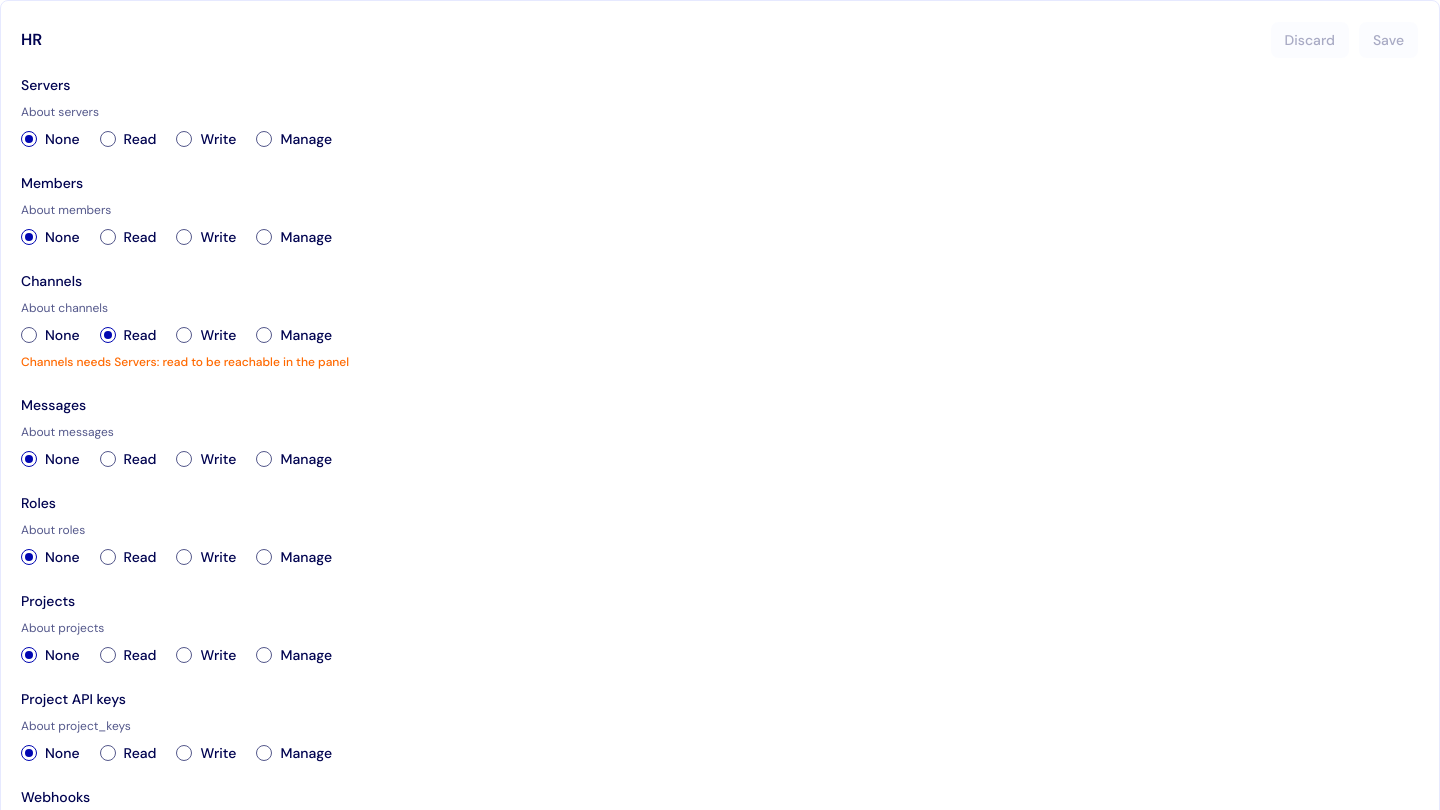
RoleEditor › warns about a grant that cannot be reached in the panel
Expected: the text "Channels needs Servers: read to be reachable in the panel" is shown, [21,354,349,370]
Click the 2nd radio button named "Read".
click(108, 139)  # box [100,131,116,147]
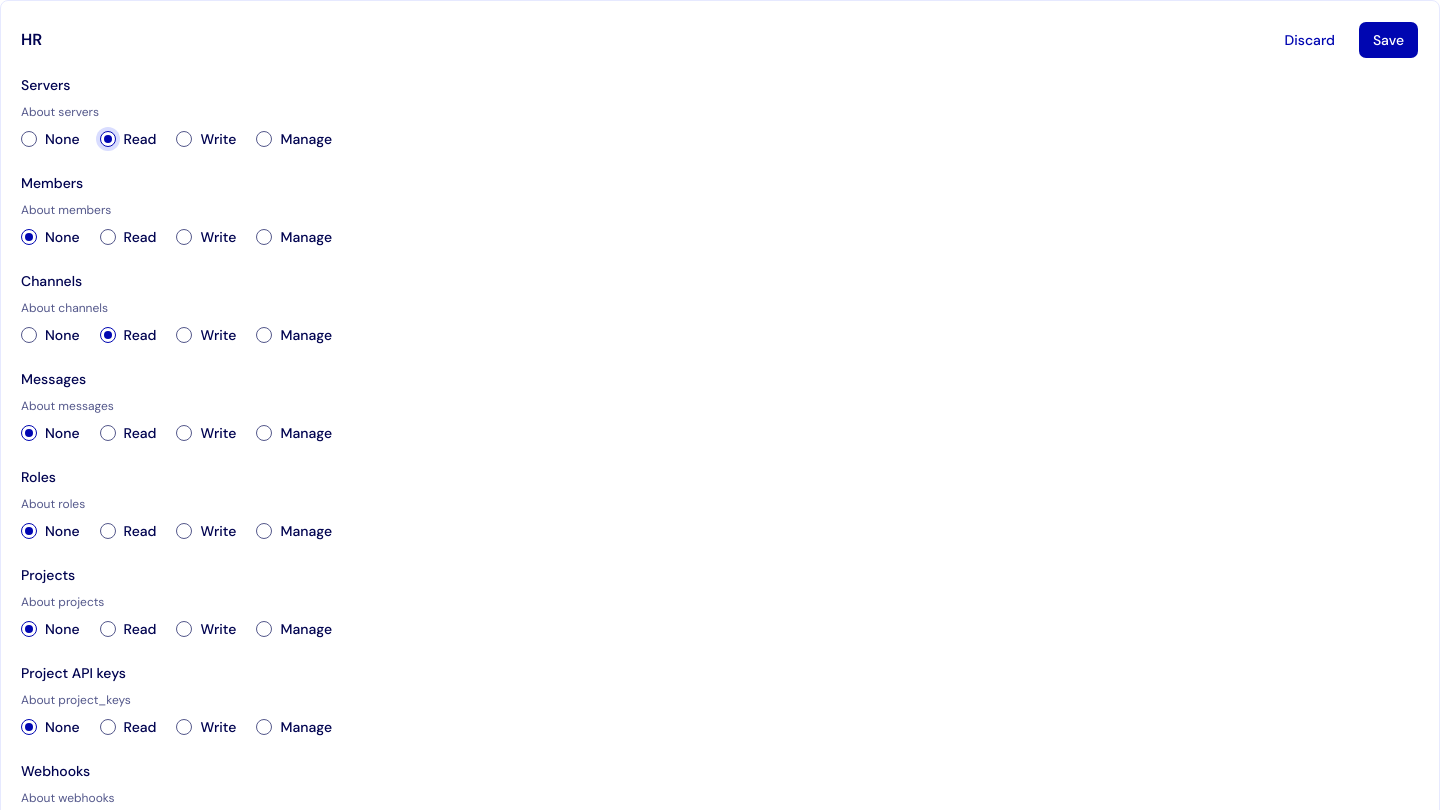
Now the text "needs Servers: read" is gone
